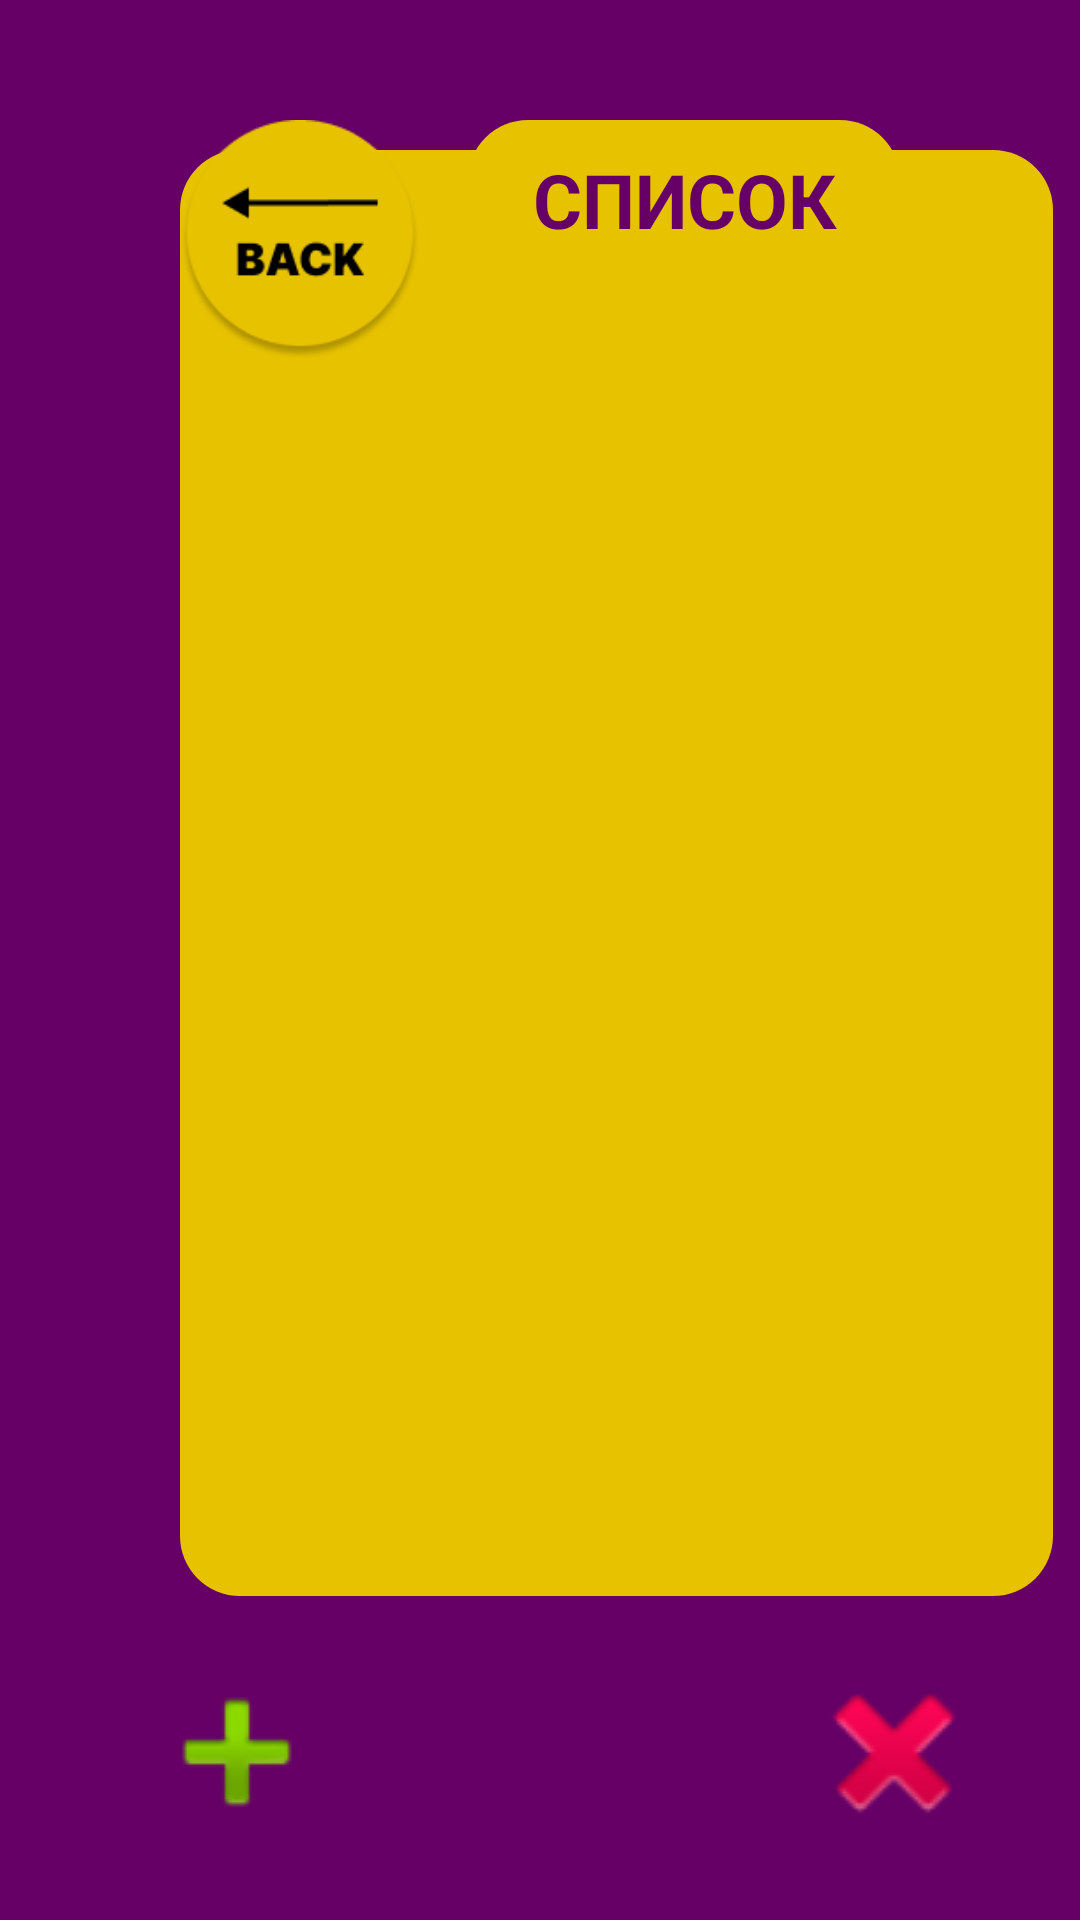

Screen size 1080px x 1920px. Icon name, then its box in pixels as box=[x1, y1, x2, y2]:
add: box=[182, 1698, 292, 1806]
delete: box=[833, 1695, 955, 1812]
